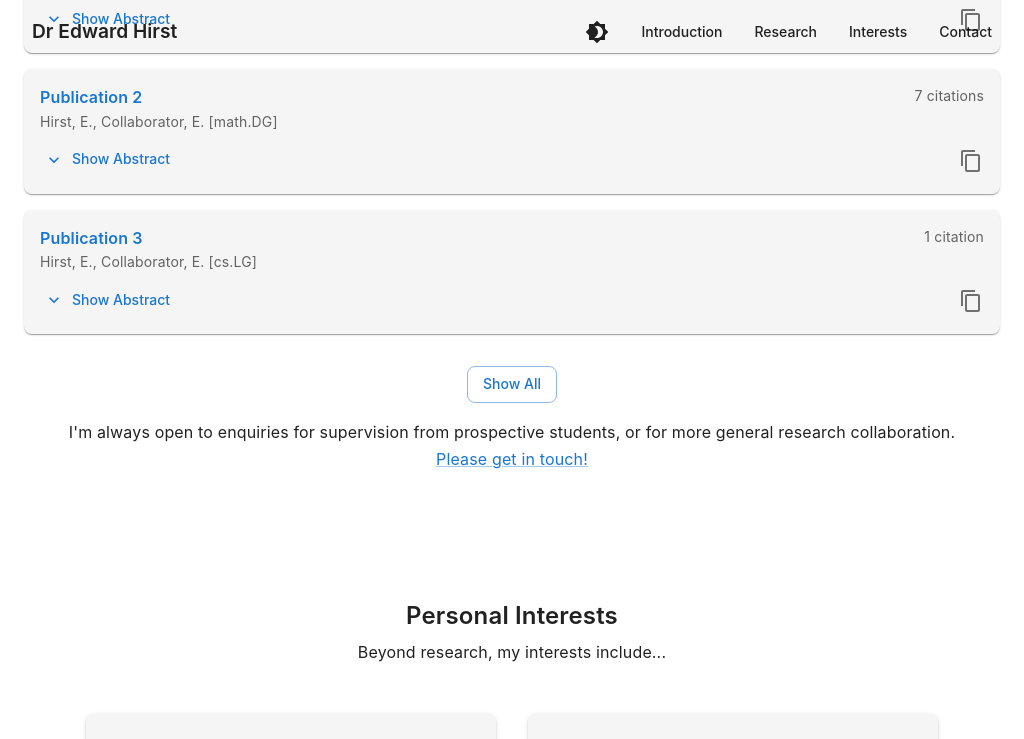
Test: publication section › toggles recent and full publication views with INSPIRE metadata
The width and height of the screenshot is (1024, 739).
(page scrolled)
Click the button "Show All" at {"x": 512, "y": 385}, box [467,366,557,403]
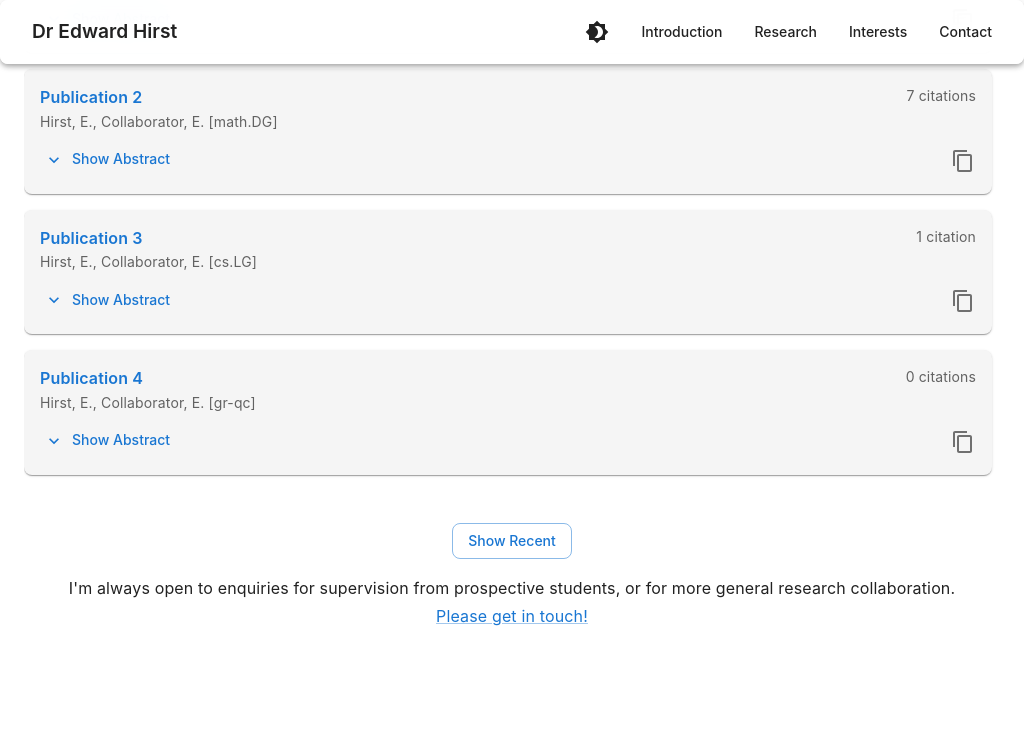
Check: the button "Show Recent" is shown
Click the button "Show Recent" at {"x": 512, "y": 541}, box [452,523,572,559]
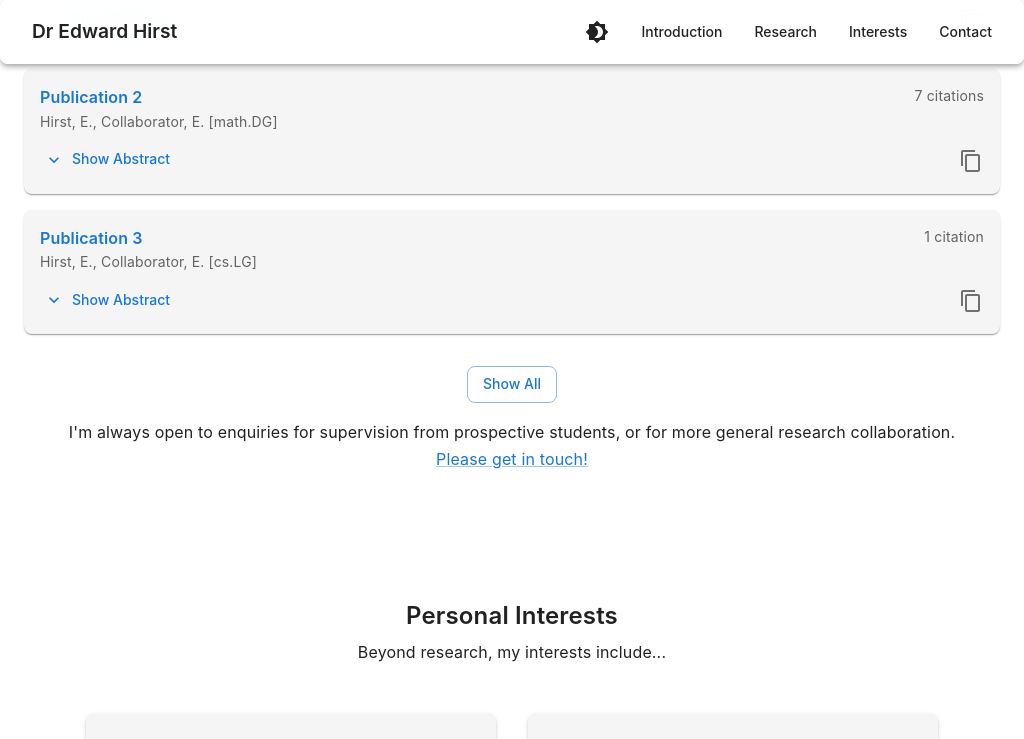
Check: the button "Show All" is shown, box [467,366,557,403]
Click the button named "Toggle dark mode" at {"x": 598, "y": 32}, box [578,12,618,52]
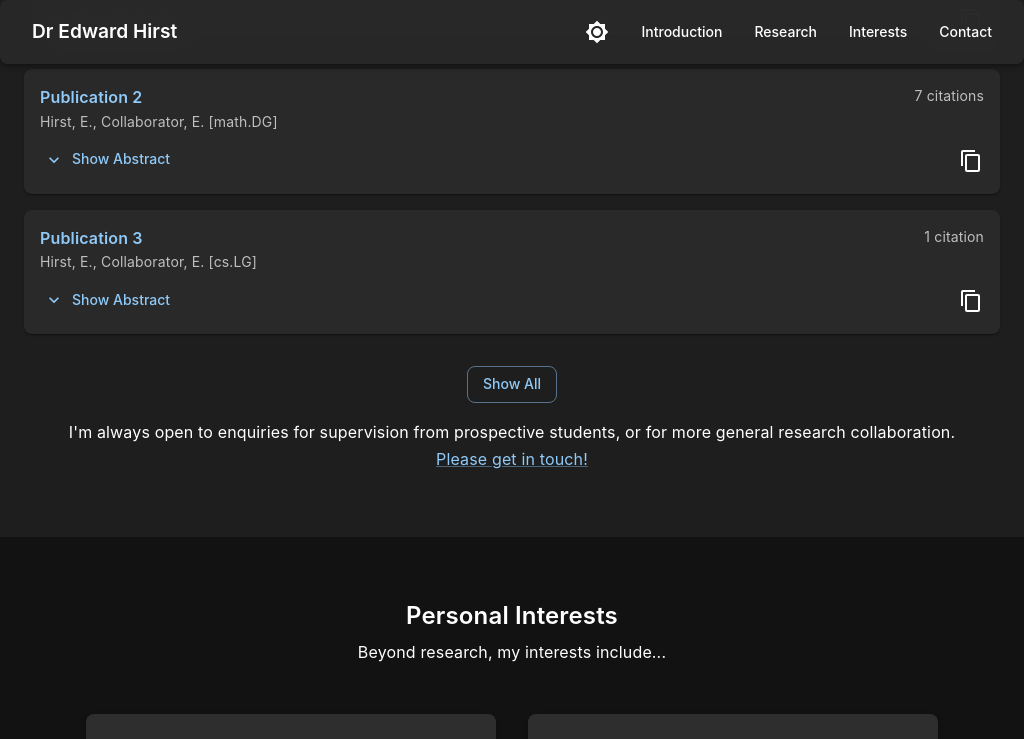
Check: the button named "Toggle light mode" is shown, box [578,12,618,52]
Click the button "Show All" at {"x": 512, "y": 385}, box [467,366,557,403]
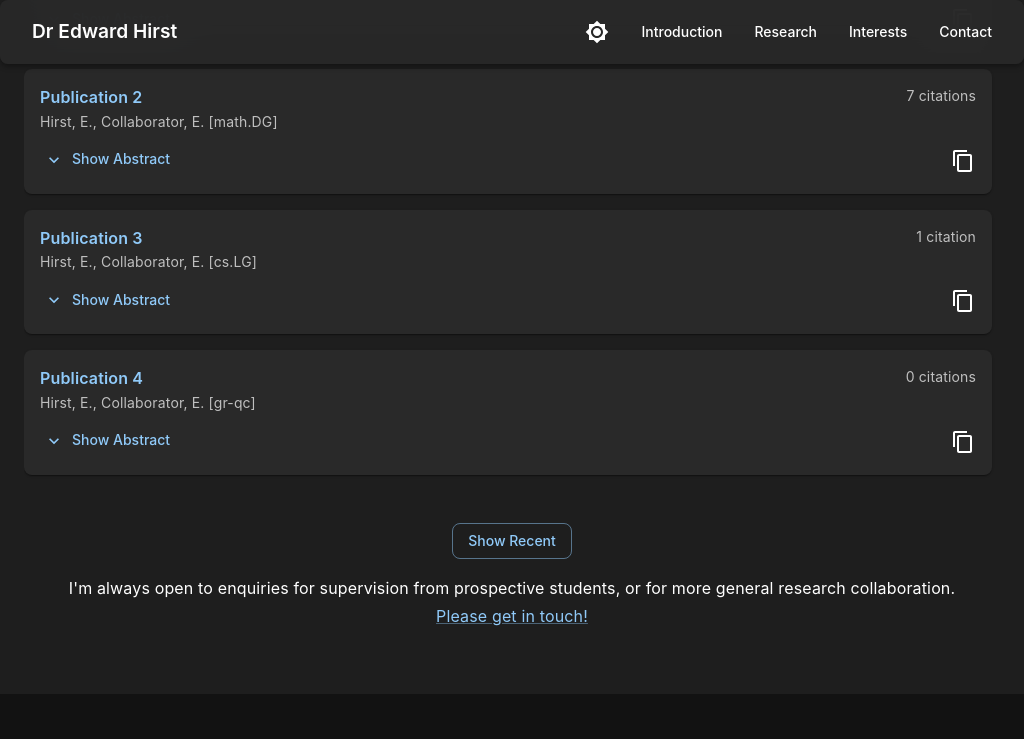
Check: the button "Show Recent" is shown, box [452,523,572,559]
